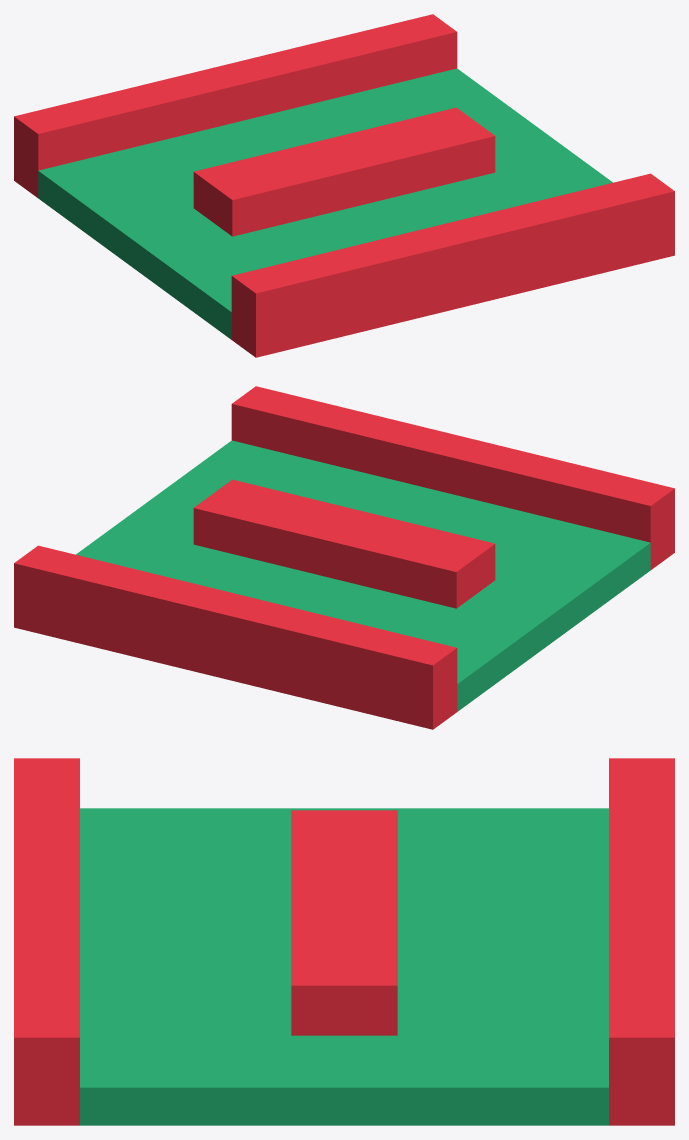
Rendered from obstacleBlock.obj.
3 renders of one model, top to bottom at view 1: azimuth 30°, elevation 25°; view 2: azimuth 150°, elevation 25°; view 3: azimuth 270°, elevation 25°, orthographic. The views are drawn at different scales.
Parts seen in each view (by area): view 1: obstacleBlock; view 2: obstacleBlock; view 3: obstacleBlock.
Boxes of the visible parts, x1,y1,x2,y2 form: obstacleBlock: [14, 14, 674, 357]; obstacleBlock: [14, 386, 674, 729]; obstacleBlock: [14, 758, 674, 1125].
Size of the model in its own units: 0.9999 by 0.1467 by 0.9999.
